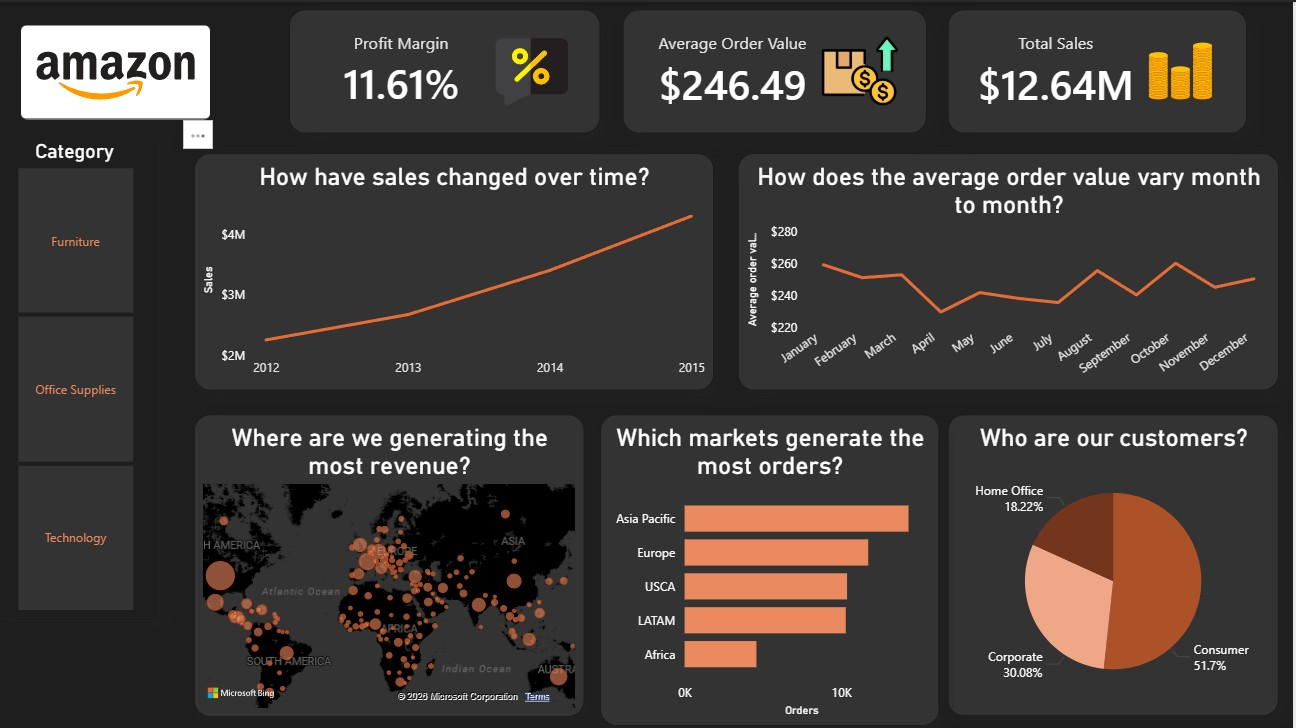

This screenshot's page, from the dashboard's own definition file:
{"tool":"powerbi","page":{"name":"Amazon Data Dashboard","canvas":[1280,720],"ordinal":0},"visuals":[{"type":"slicer","title":"Category","fields":{"Values":["global_superstore xlsx - Orders.Category"]},"box":[2.5,128.8,163.2,474.8],"z":0},{"type":"cardVisual","fields":{"Data":["Sum(global_superstore xlsx - Orders.Sales)"]},"box":[941.1,7.4,293.3,121.5],"z":1000},{"type":"cardVisual","fields":{"Data":["Avg(global_superstore xlsx - Orders.Sales)"]},"box":[622.1,7.4,298.2,121.5],"z":2000},{"type":"lineChart","title":"How have sales changed over time?","fields":{"Category":["date_dim.Date.Variation.Date Hierarchy.Year","date_dim.Date.Variation.Date Hierarchy.Quarter","date_dim.Date.Variation.Date Hierarchy.Month","date_dim.Date.Variation.Date Hierarchy.Day"],"Y":["Sum(global_superstore xlsx - Orders.Sales)"]},"box":[201.2,148.5,510.4,233.1],"z":3000},{"type":"map","title":"Where are we generating the most revenue?","fields":{"Category":["global_superstore xlsx - Orders.Country"],"Size":["CountNonNull(global_superstore xlsx - Orders.Order ID)"]},"box":[201.2,404.9,382.8,296.9],"z":4000},{"type":"pieChart","title":"Who are our customers?","fields":{"Category":["global_superstore xlsx - Orders.Segment"],"Y":["CountNonNull(global_superstore xlsx - Orders.Order Date)"]},"box":[941.1,404.9,325.2,295.7],"z":5000},{"type":"barChart","title":"Which markets generate the most orders?","fields":{"Y":["CountNonNull(global_superstore xlsx - Orders.Order ID)"],"Category":["global_superstore xlsx - Orders.Market"]},"box":[600,404.9,332.5,305.5],"z":6000},{"type":"cardVisual","fields":{"Data":["global_superstore xlsx - Orders.Profit Margin"]},"box":[294.5,7.4,305.5,121.5],"z":7000},{"type":"lineChart","title":"How does the average order value vary month to month?","fields":{"Y":["Avg(global_superstore xlsx - Orders.Sales)"],"Category":["date_dim.Date.Variation.Date Hierarchy.Month"]},"box":[735,148.5,531.3,233.1],"z":8000},{"type":"image","box":[27,22.1,193.9,93.3],"z":9000}]}

Visuals, with their boxes in screenshot pixels (x1, y1, x2, y2), scaled from the page's 1280x720 canvas onto the 1296x728 screenshot:
"Category" slicer: [x1=3, y1=130, x2=168, y2=610]
cardVisual - Sum(global_superstore xlsx - Orders.Sales): [x1=953, y1=7, x2=1250, y2=130]
cardVisual - Avg(global_superstore xlsx - Orders.Sales): [x1=630, y1=7, x2=932, y2=130]
"How have sales changed over time?" lineChart: [x1=204, y1=150, x2=720, y2=386]
"Where are we generating the most revenue?" map: [x1=204, y1=409, x2=591, y2=710]
"Who are our customers?" pieChart: [x1=953, y1=409, x2=1282, y2=708]
"Which markets generate the most orders?" barChart: [x1=608, y1=409, x2=944, y2=718]
cardVisual - global_superstore xlsx - Orders.Profit Margin: [x1=298, y1=7, x2=608, y2=130]
"How does the average order value vary month to month?" lineChart: [x1=744, y1=150, x2=1282, y2=386]
image: [x1=27, y1=22, x2=224, y2=117]
